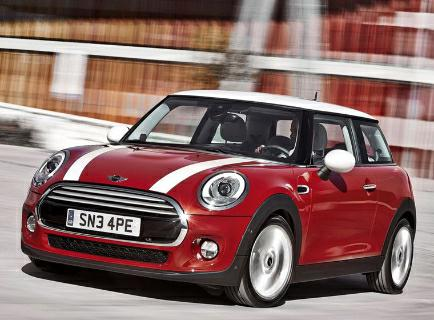MINI: (14, 86, 414, 305)
